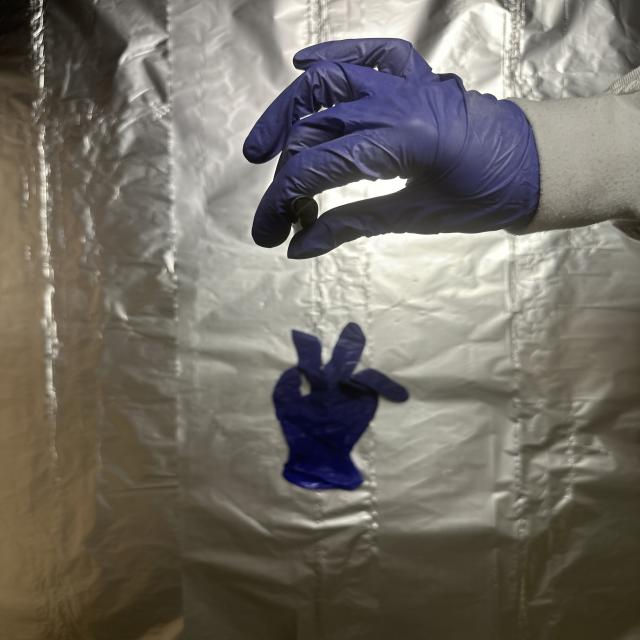gloves_contaminated: (243, 39, 540, 258)
